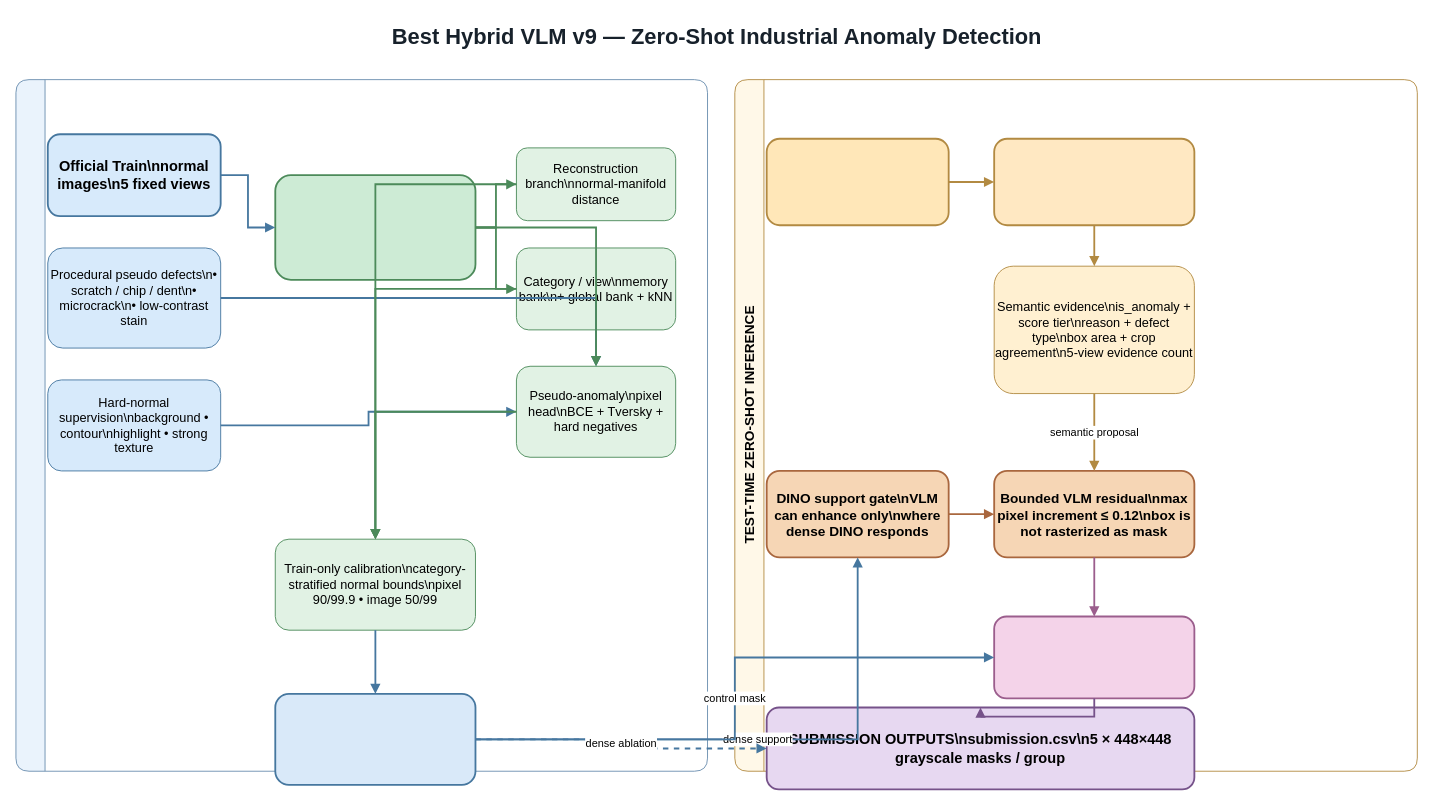
Image size: 1433x805. Some labels were removed from this diagram. Each missing label, with the box of its shape:
DINO dense control\ncontinuous anomaly map\nimage score + 448×448 mask: (274, 693, 476, 785)
Frozen DINOv2 ViT-B/14\nMulti-layer patch features\n1036 px + 518 px scales: (274, 174, 476, 280)
Hybrid fusion\nDINO dense control\n+ aligned VLM residual: (993, 615, 1195, 699)
Local Qwen3-VL\ncrop-level structured audit\nno online API / no test labels: (993, 137, 1195, 226)
Test A/B input\n5-view product images\nunseen-category capable: (765, 137, 949, 226)
TRAIN-ONLY NORMAL MODELING: (15, 79, 708, 771)
